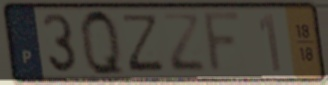1: (258, 11, 283, 74)
3: (41, 11, 79, 74)
F: (201, 8, 244, 77)
Q: (77, 6, 128, 80)
Z: (160, 11, 208, 75), (122, 12, 166, 74)
